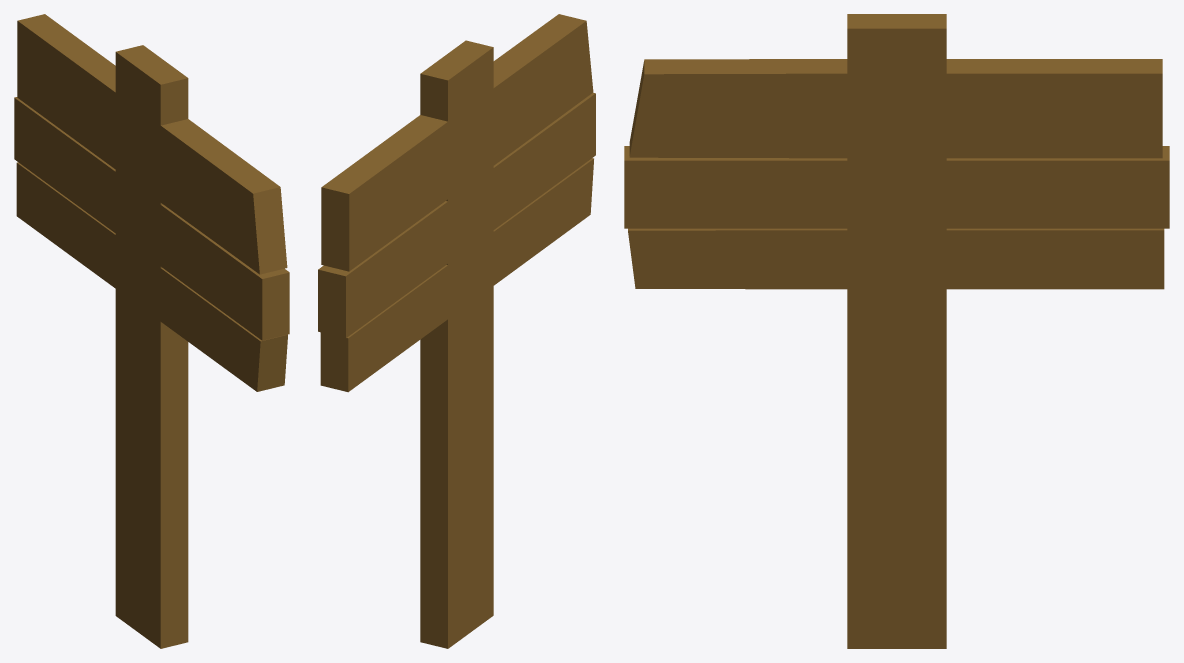
The model's file is Signage.fbx.
3 renders of one model, left to right at view 1: azimuth 30°, elevation 25°; view 2: azimuth 150°, elevation 25°; view 3: azimuth 270°, elevation 25°, orthographic. The views are drawn at different scales.
Parts seen in each view (by area): view 1: Cube; view 2: Cube; view 3: Cube.
Part boxes in pixels (x1,y1,x2,y2): Cube: (14, 14, 289, 648); Cube: (318, 14, 595, 648); Cube: (624, 14, 1169, 648).
Size of the model in its own units: 12.96 by 254 by 202.
